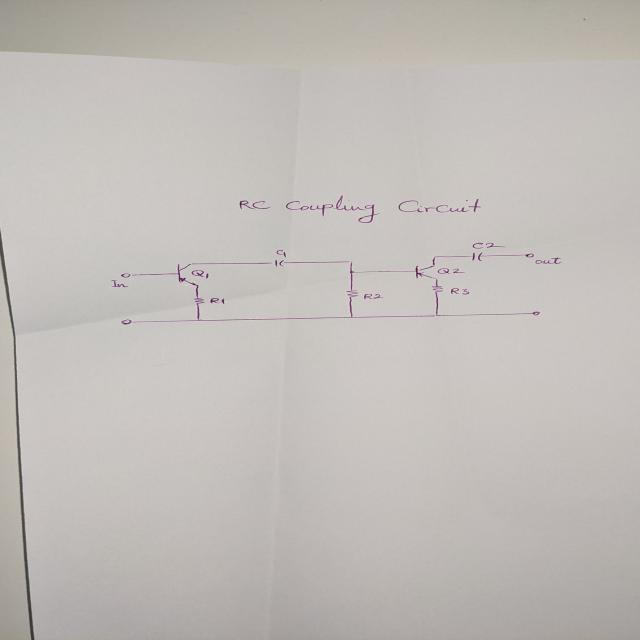capacitor: (469, 251, 485, 262), (270, 259, 286, 267)
junction: (346, 260, 353, 264), (433, 313, 440, 317), (348, 270, 354, 274), (348, 314, 354, 318), (195, 318, 201, 322), (432, 255, 438, 258)
resistor: (345, 289, 359, 299), (192, 296, 205, 306), (430, 285, 445, 293)
terminal: (119, 318, 132, 325), (119, 272, 133, 278), (523, 252, 534, 258), (530, 310, 540, 316)
text: (238, 194, 483, 223), (471, 241, 506, 249), (436, 267, 466, 275), (533, 256, 562, 264), (189, 269, 209, 279), (109, 279, 129, 288), (362, 292, 384, 300), (449, 287, 470, 295), (208, 297, 226, 305), (275, 249, 287, 258)
transistor: (175, 262, 200, 287), (413, 263, 439, 280)
